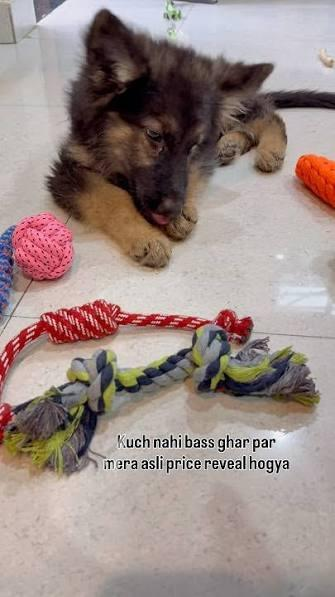puppy-dog: (44, 9, 335, 269)
